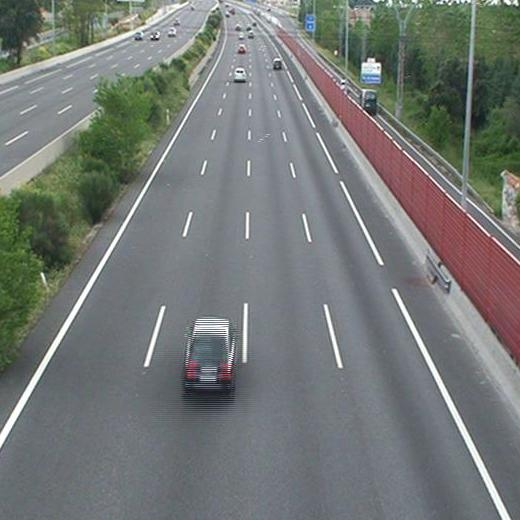car: (183, 318, 235, 388), (234, 69, 247, 82), (273, 58, 283, 71), (237, 45, 246, 53)
